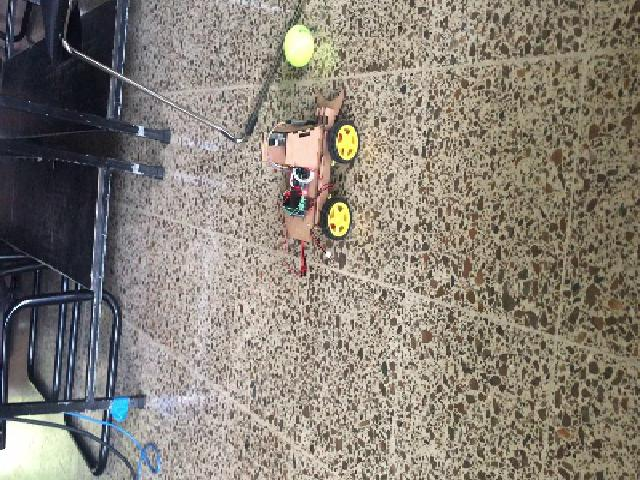Ball: (282, 24, 314, 66)
Robot: (262, 88, 360, 245)
